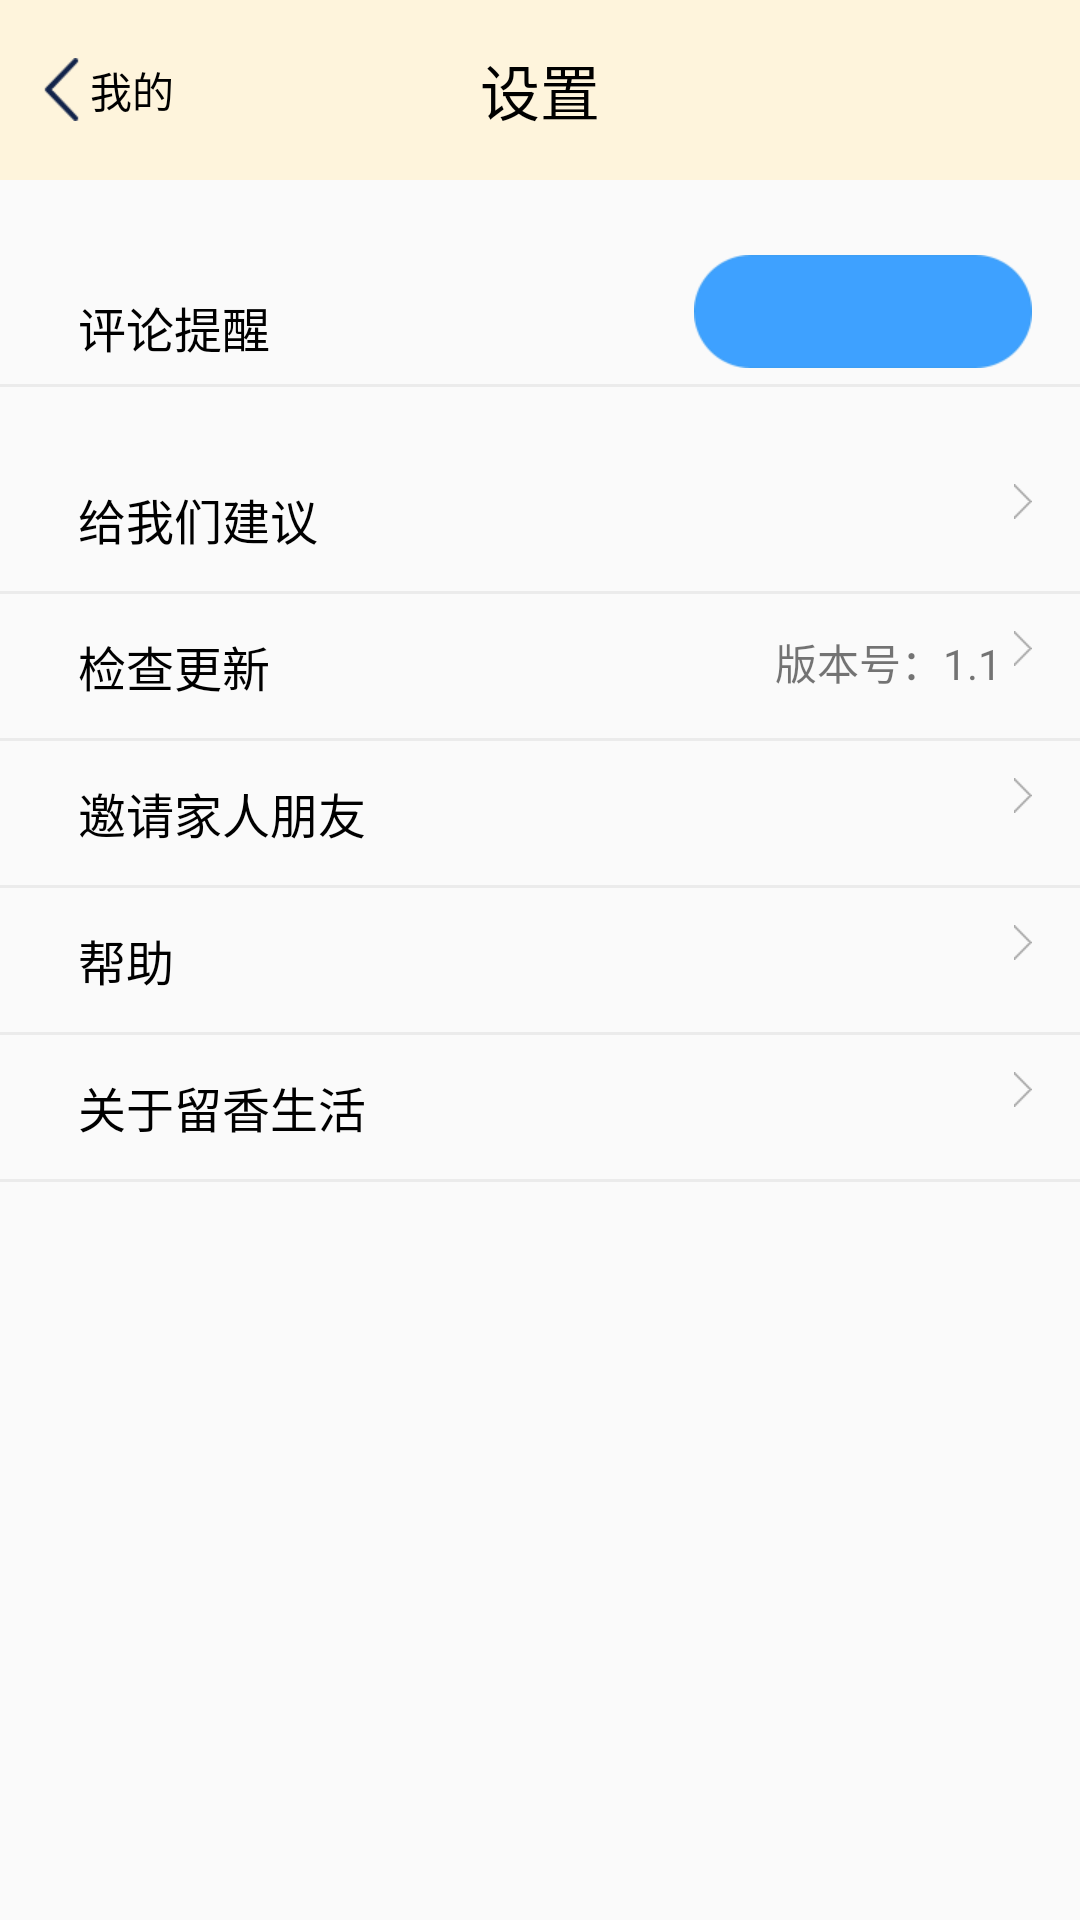

Named icons in this screenshot (1080 × 1920) and their centers, [x,y]:
back: [61,89]
